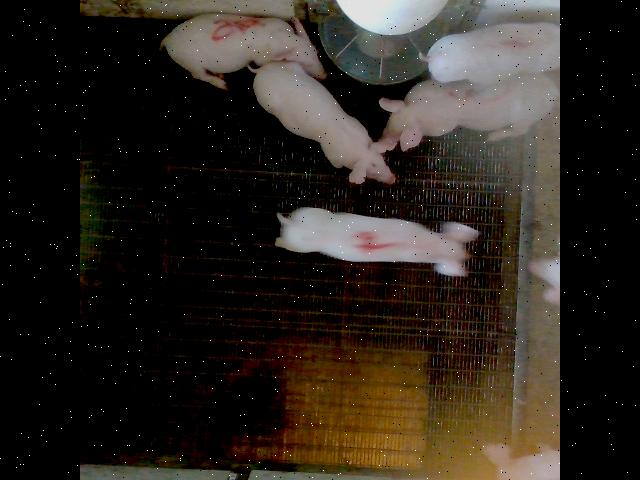pig-1: (429, 22, 559, 82)
pig-3: (379, 72, 558, 149)
pig-4: (275, 206, 477, 275)
pig-5: (160, 14, 326, 89)
